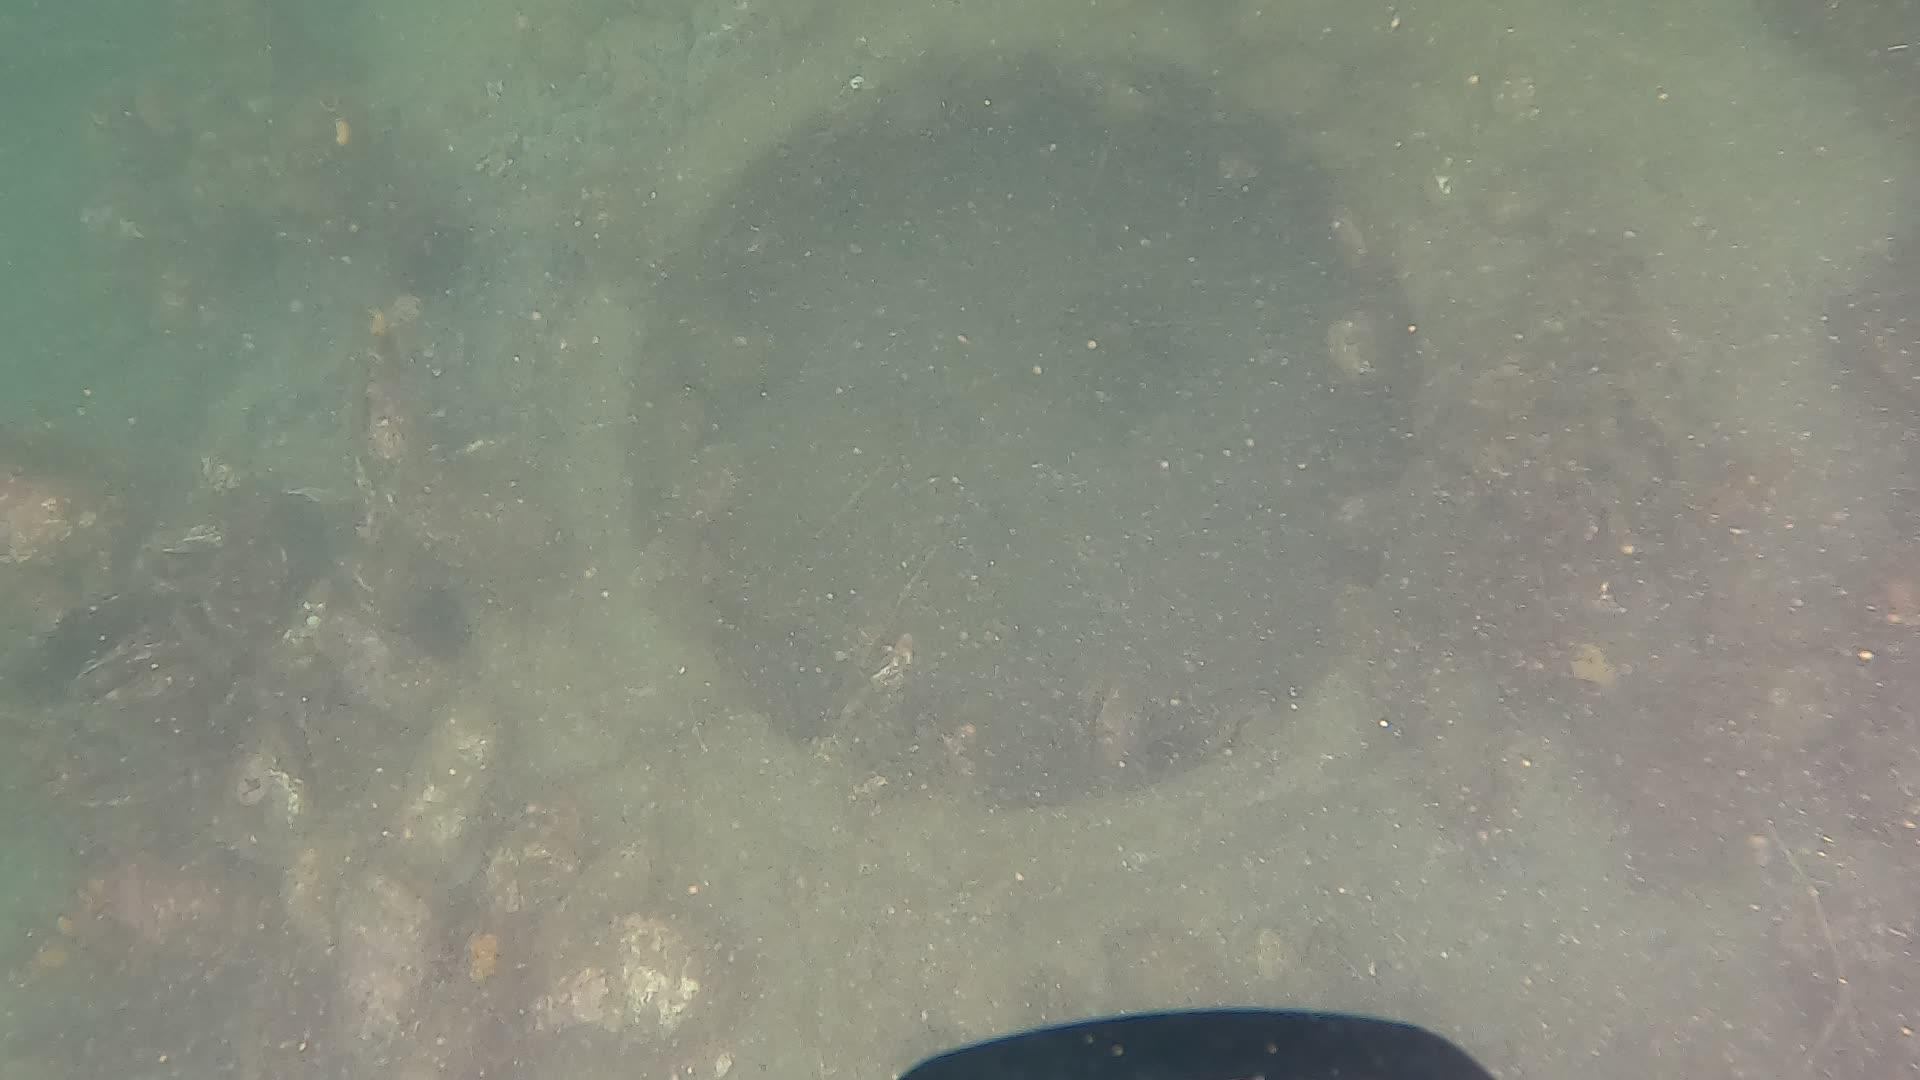tire: (411, 0, 1920, 1080)
